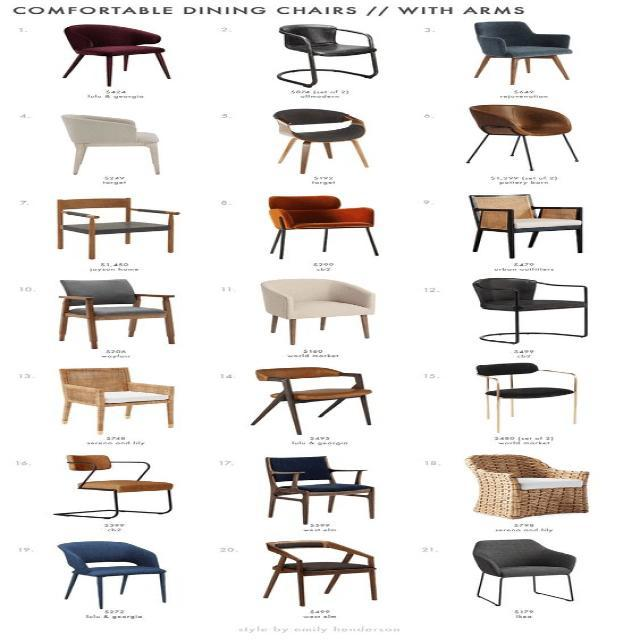chair: (248, 188, 382, 262), (43, 538, 182, 606), (468, 358, 588, 436), (52, 192, 186, 260), (250, 361, 384, 426), (456, 104, 588, 168), (50, 455, 184, 518), (460, 193, 592, 256), (252, 455, 384, 518), (62, 276, 180, 346), (467, 538, 588, 606), (256, 537, 384, 598), (274, 17, 376, 92), (48, 113, 170, 173), (254, 278, 375, 338), (465, 18, 581, 78), (56, 369, 180, 425), (54, 26, 172, 78), (272, 109, 374, 167), (47, 275, 182, 318), (54, 365, 188, 408), (450, 192, 590, 232), (50, 538, 188, 577), (254, 276, 377, 318), (59, 454, 186, 494), (458, 99, 581, 140), (256, 453, 374, 495), (248, 192, 382, 228), (56, 197, 175, 237), (263, 540, 370, 580), (61, 22, 175, 58), (258, 361, 372, 397), (272, 24, 383, 60), (465, 22, 570, 53), (272, 108, 386, 136)
